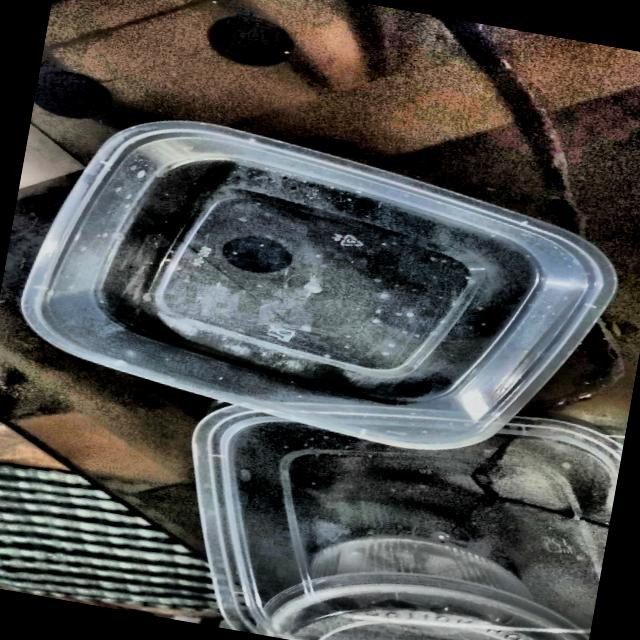plastic container: (21, 121, 615, 449)
